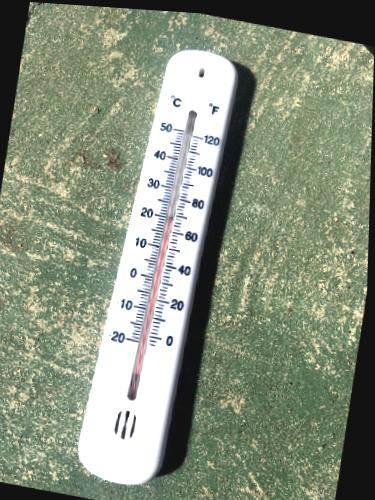thermo: (73, 44, 254, 490)
